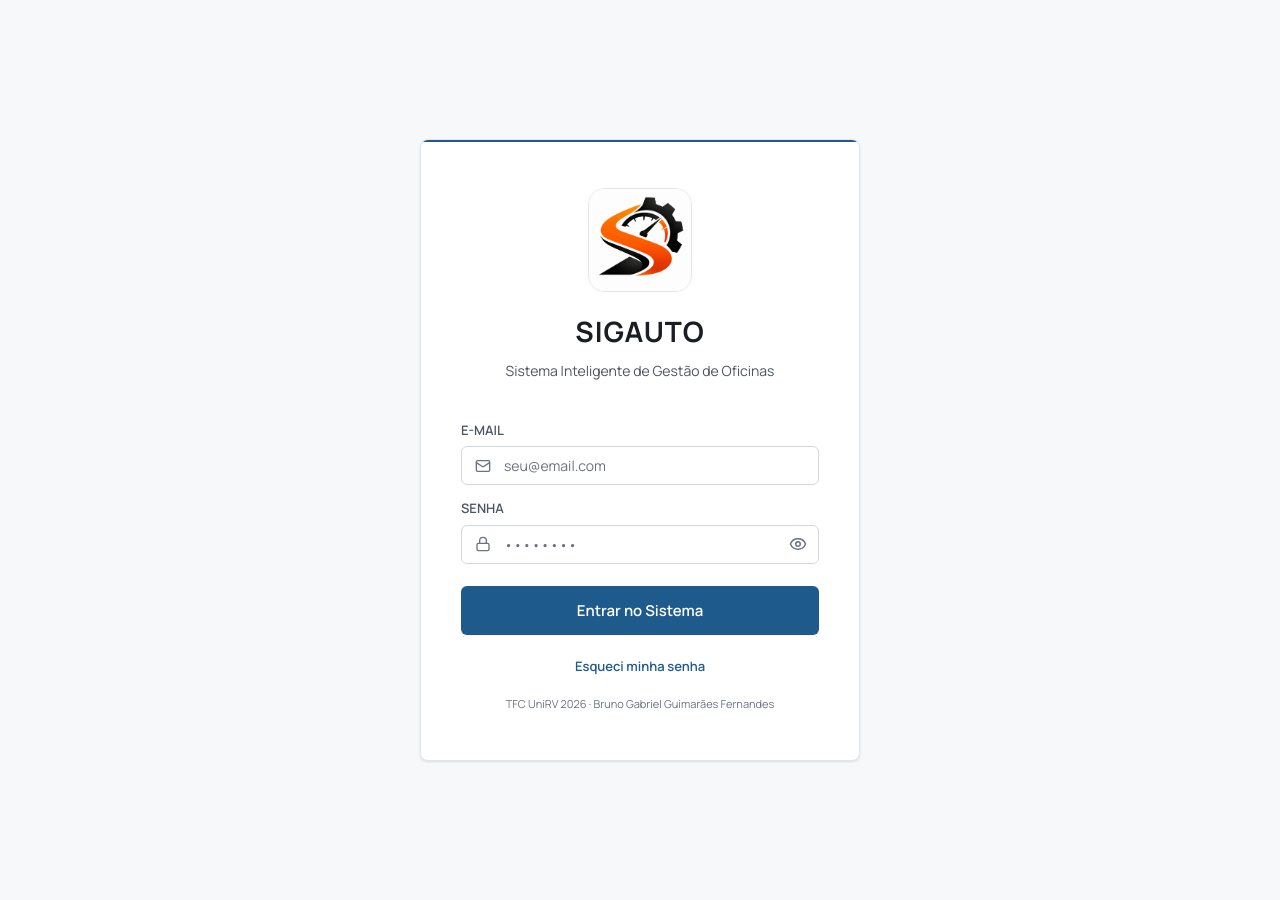
Test: RF08 — autenticação e recuperação de senha › RN30: mantém a mesma confirmação de recuperação em caso de sucesso
Click the button "Esqueci minha senha" at (640, 666), box top-left (575, 657), bottom-right (705, 675)
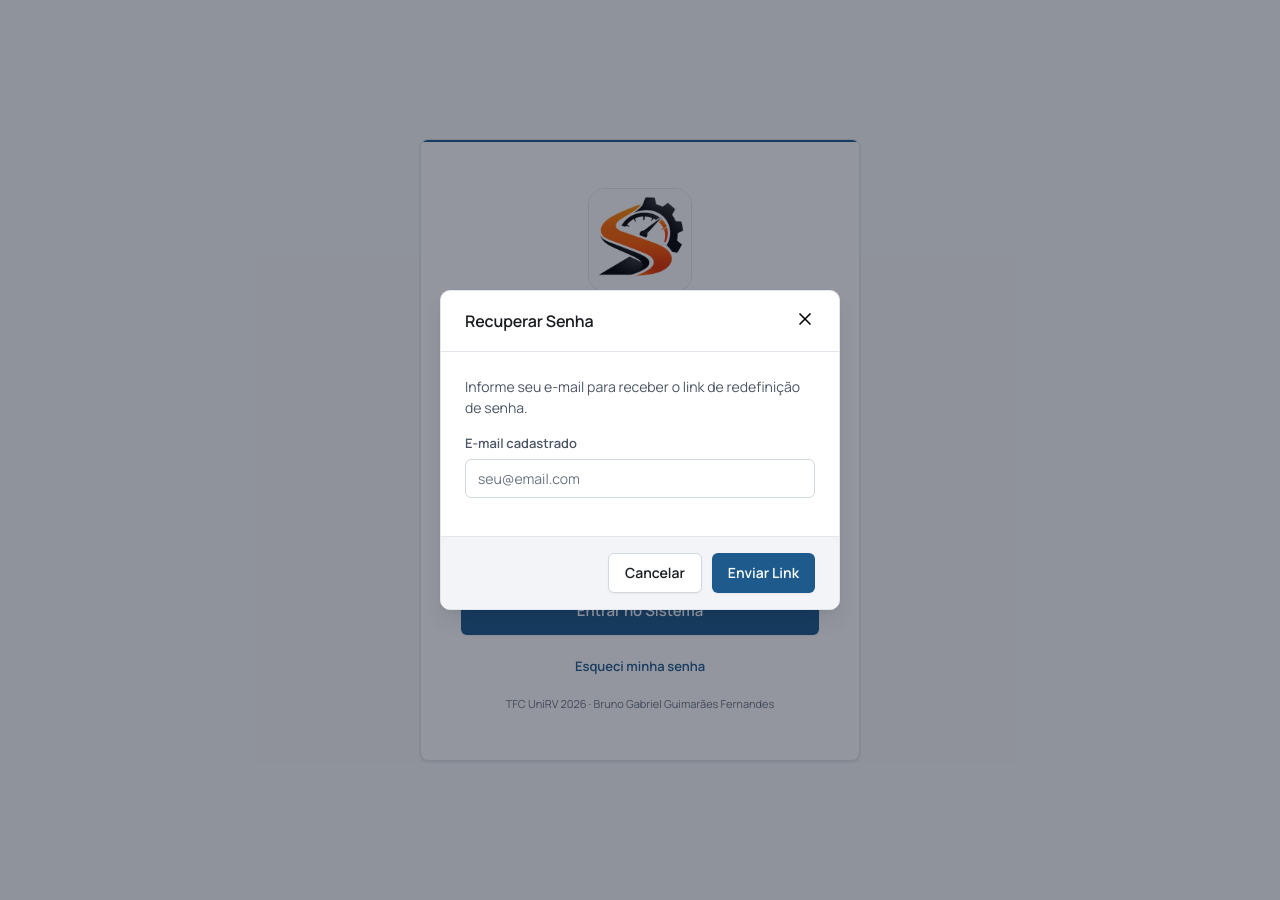
Type "desconhecido@exemplo.com" into the field with placeholder "seu@email.com" at (640, 479), box top-left (465, 460), bottom-right (815, 498)
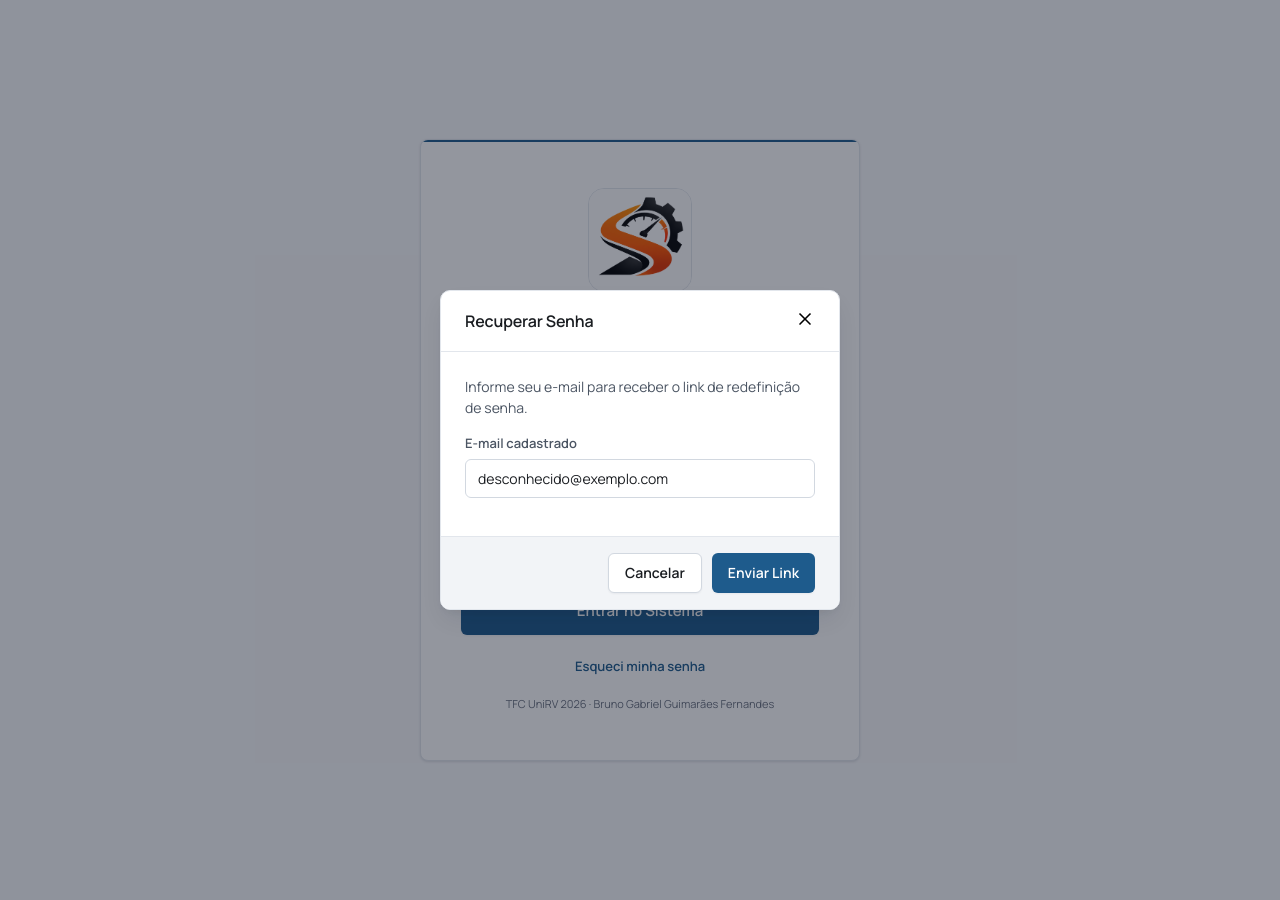
Submit the form named "Enviar Link", box top-left (441, 352), bottom-right (839, 609)
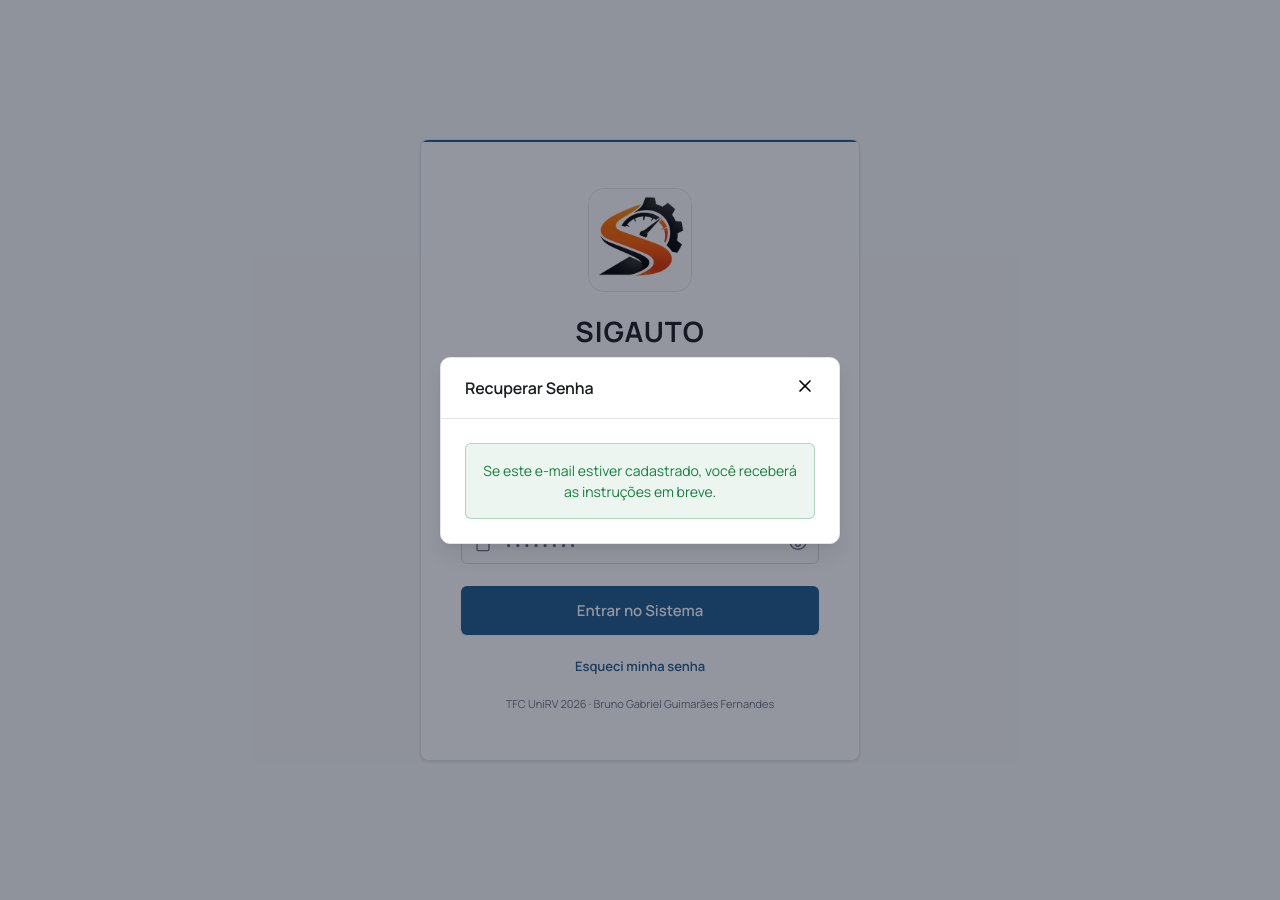
Now the text "Se este e-mail estiver cadastrado, você receberá as instruções em breve." is shown, box top-left (465, 442), bottom-right (815, 518)
Now the button "Enviar Link" is gone
